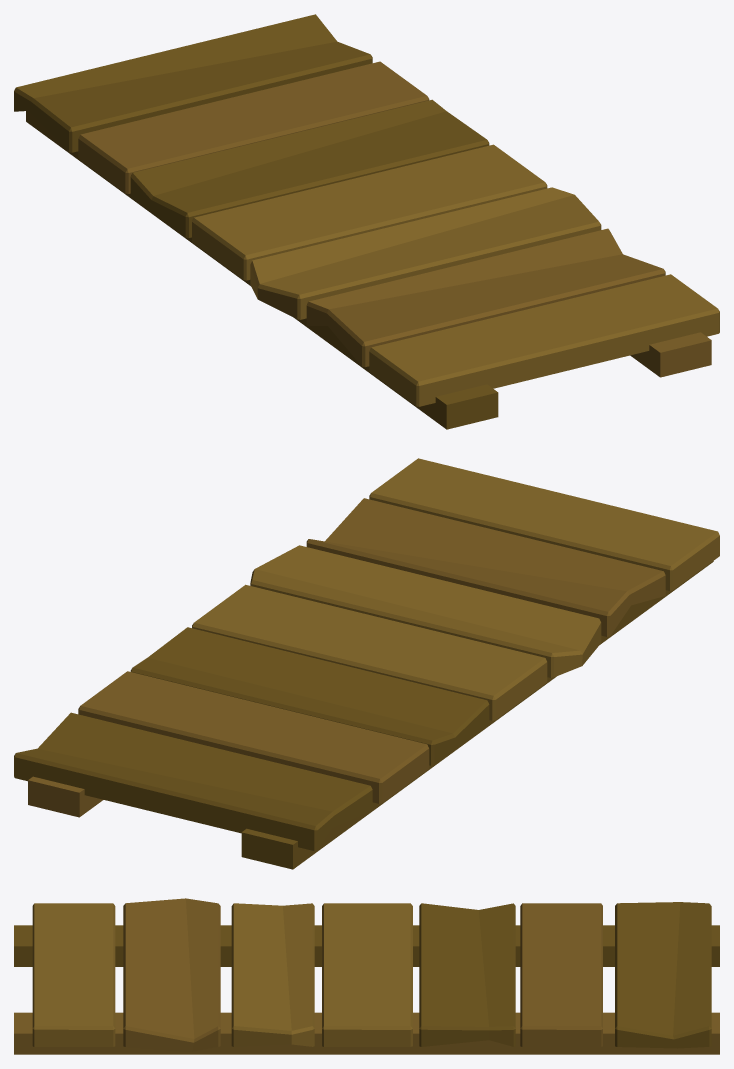
The model's file is ponte.fbx.
The picture shows the model from 3 angles, top to bottom: view 1: azimuth 30°, elevation 25°; view 2: azimuth 150°, elevation 25°; view 3: azimuth 270°, elevation 25°; orthographic projection. The views are drawn at different scales.
Visible parts, largest first — view 1: ponte; view 2: ponte; view 3: ponte.
Boxes of the visible parts, x1,y1,x2,y2 form: ponte: (14, 14, 719, 429); ponte: (14, 458, 719, 869); ponte: (14, 898, 719, 1054).
Size of the model in its own units: 94.63 by 13.68 by 212.
